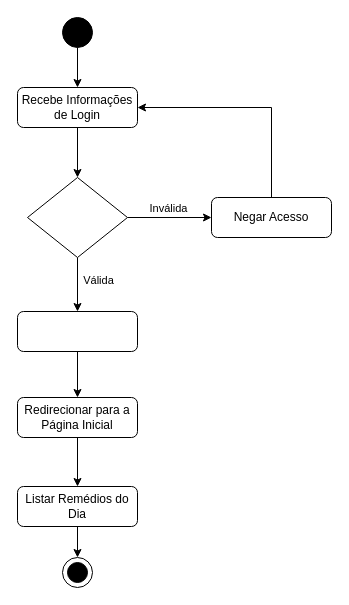
Image size: 349x605. Some labels were removed from this diagram. The shapes that lost their labels are listed below. From the top down, each one's centre as x and y in pixels, then its label:
At [77,217]: "Autenticação".
At [77,331]: "Iniciar Sessão do Usuário".
